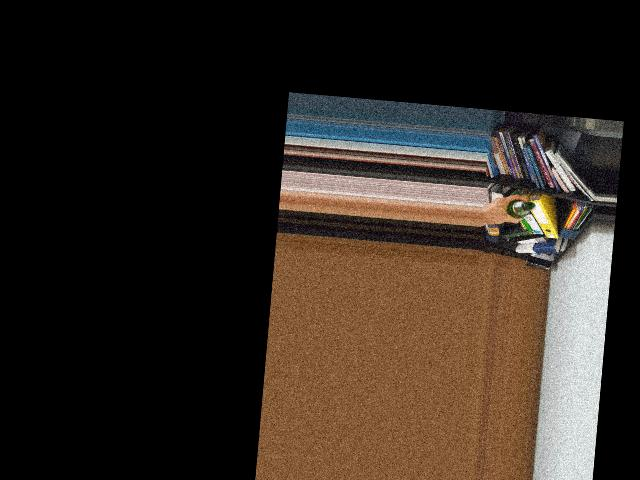beer: (505, 199, 535, 219)
